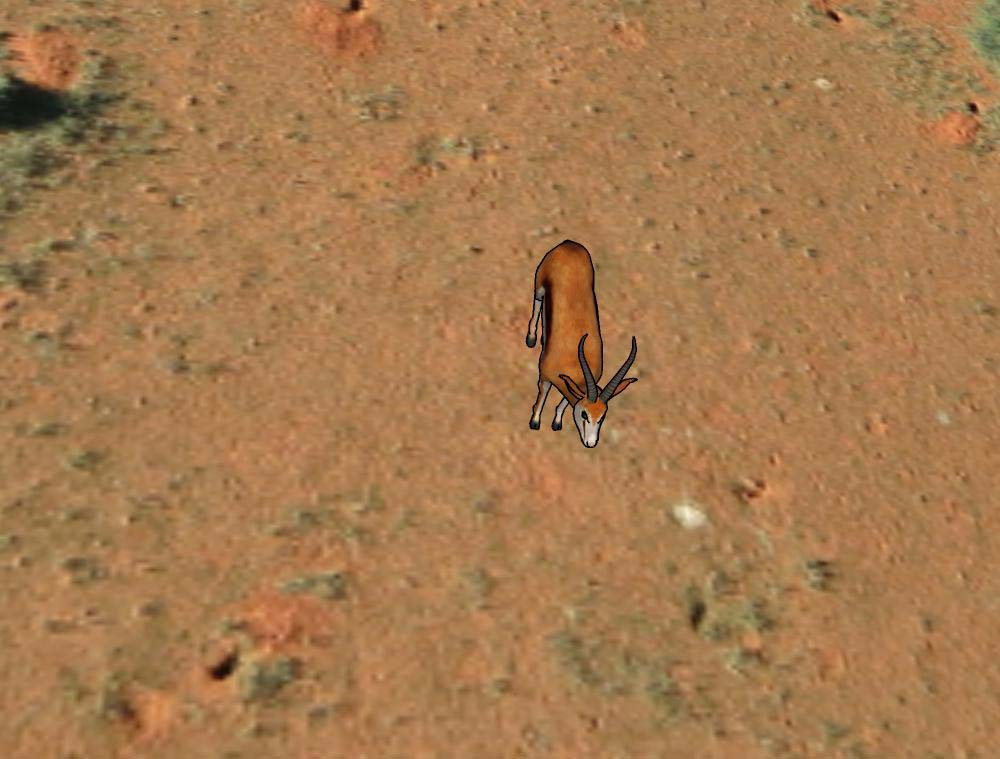springbok: (516, 231, 643, 451)
